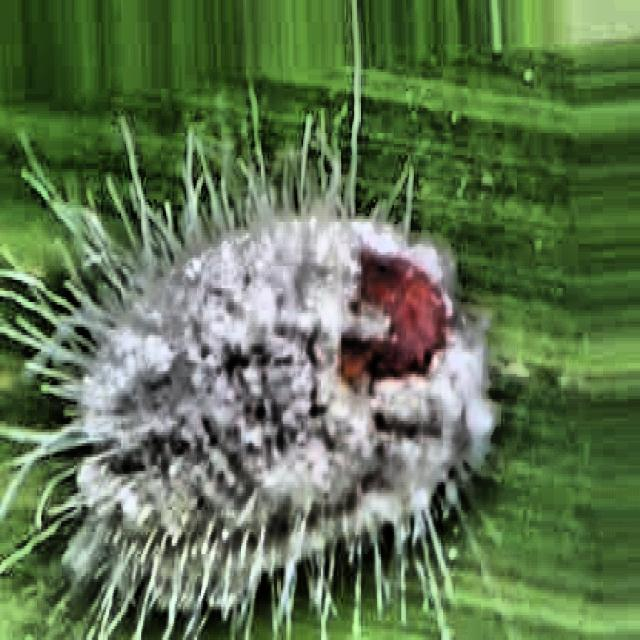Mealy-bug: (23, 128, 524, 623)
